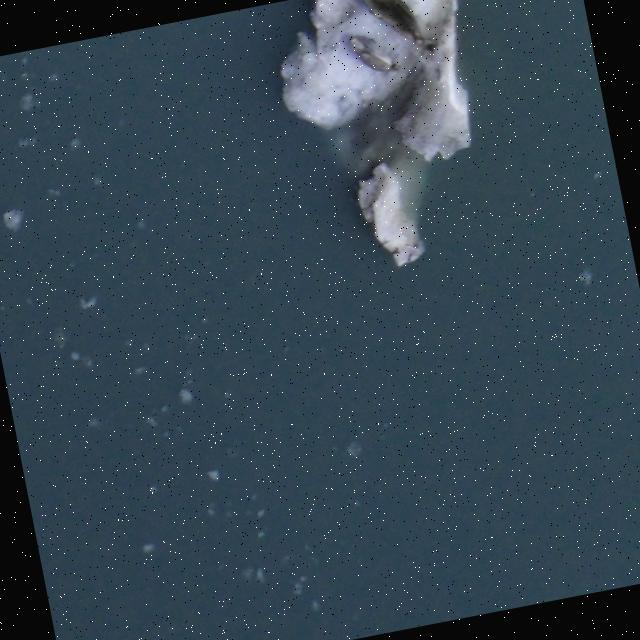seal: (349, 0, 443, 71), (337, 23, 407, 88)
